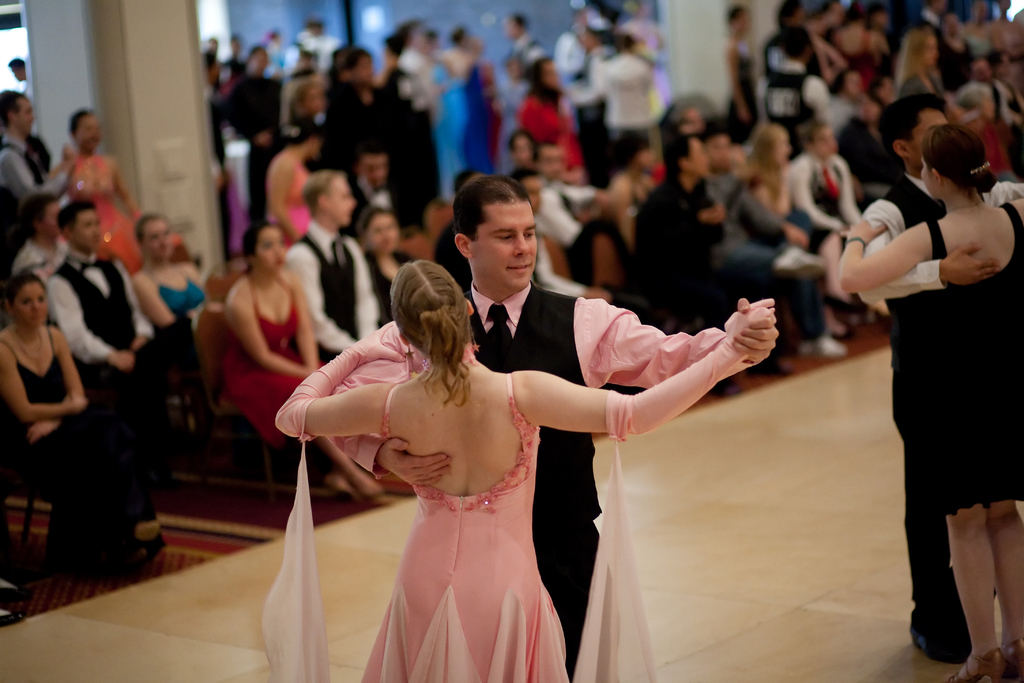Human_hand: (378, 434, 454, 490), (729, 293, 780, 368), (940, 239, 1002, 286), (348, 320, 410, 365), (835, 218, 889, 247), (23, 419, 60, 444), (109, 350, 139, 373), (780, 224, 808, 245), (69, 394, 95, 413), (61, 144, 78, 163)
